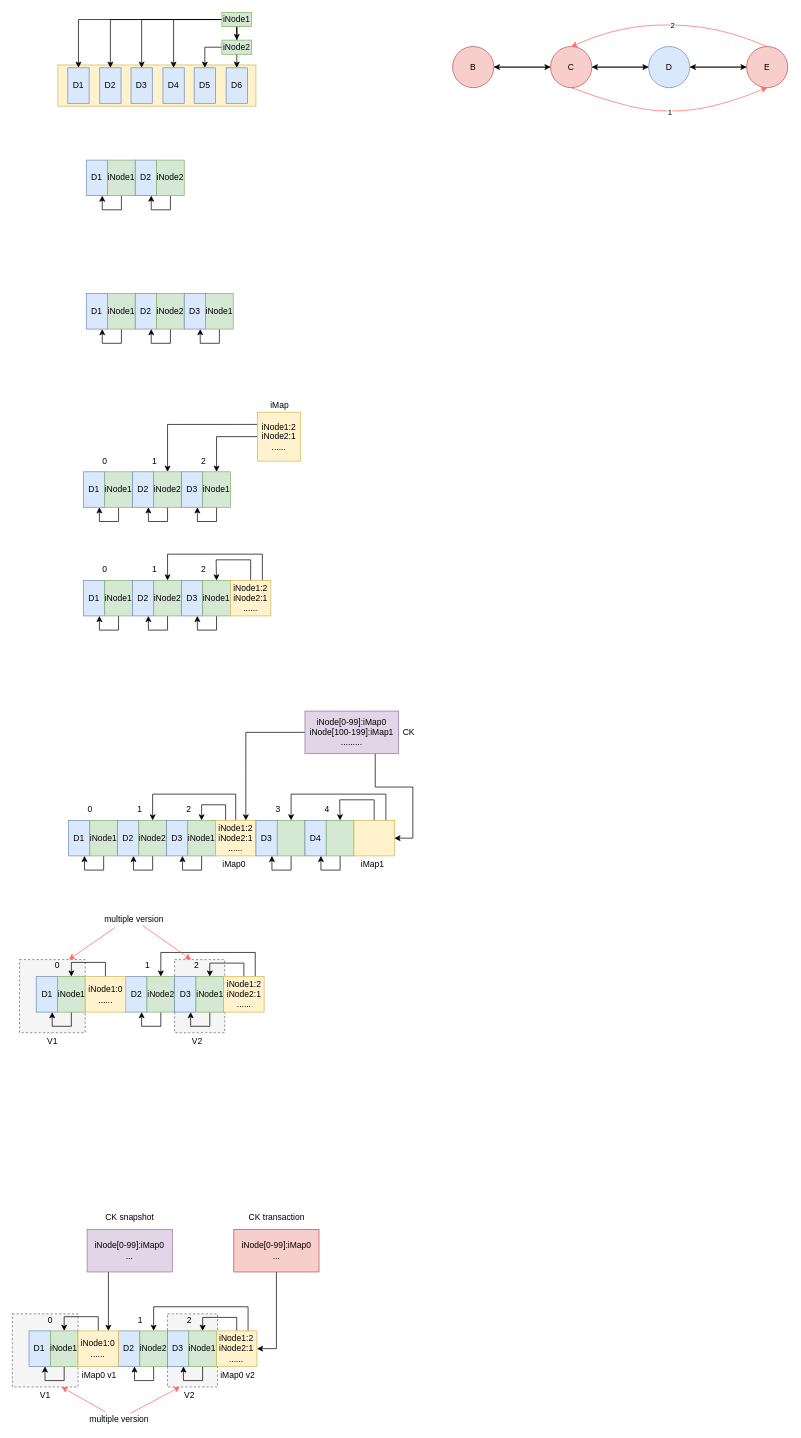
Some shapes in this 801 by 1438 pixel diagram are drawn without their labels. Each missing label, with the centre of its shape:
"iNode3" belongs at (291,838).
"iNode3:4 iNode4:3 ......" belongs at (373,838).
"iNode4" belongs at (340,838).
